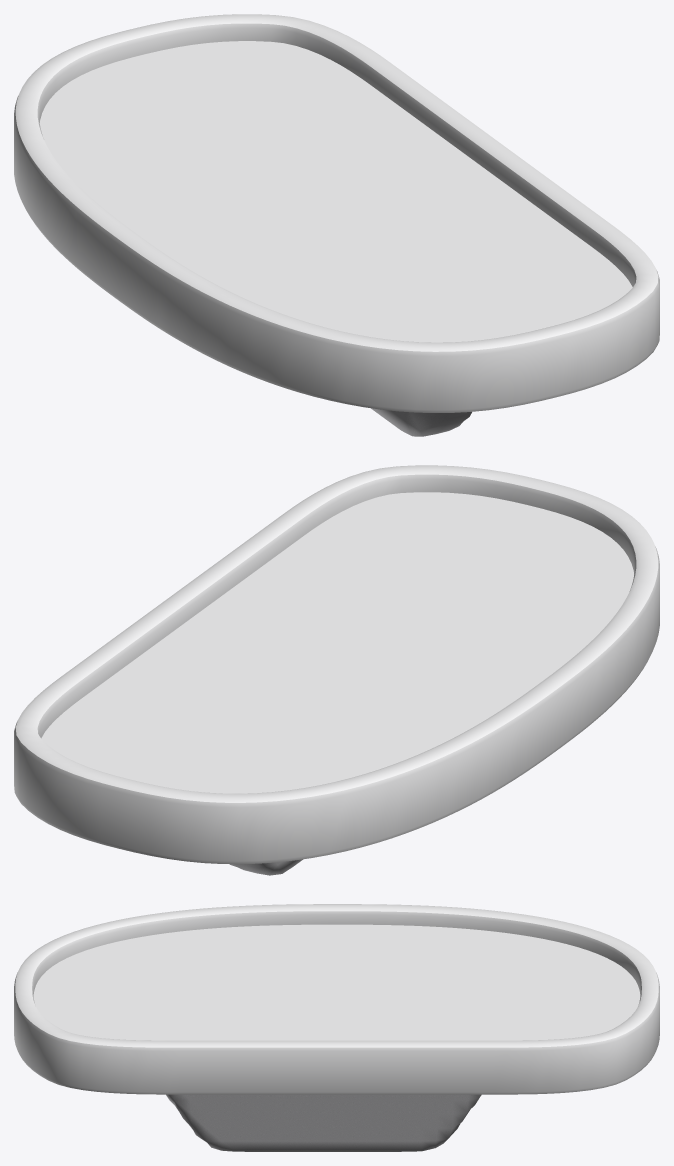
Rendered from tray_iu_lod1.glb.
3 views of the same model, one above another, from view 1: azimuth 30°, elevation 25°; view 2: azimuth 150°, elevation 25°; view 3: azimuth 270°, elevation 25° (orthographic). The views are drawn at different scales.
Visible parts, largest first — view 1: tray_iu; view 2: tray_iu; view 3: tray_iu.
Boxes of the visible parts, x1,y1,x2,y2 form: tray_iu: [14, 14, 659, 436]; tray_iu: [14, 465, 659, 875]; tray_iu: [14, 904, 659, 1151].
Size of the model in its own units: 0.0265 by 0.0132 by 0.05.
2 materials, 1 textured.
